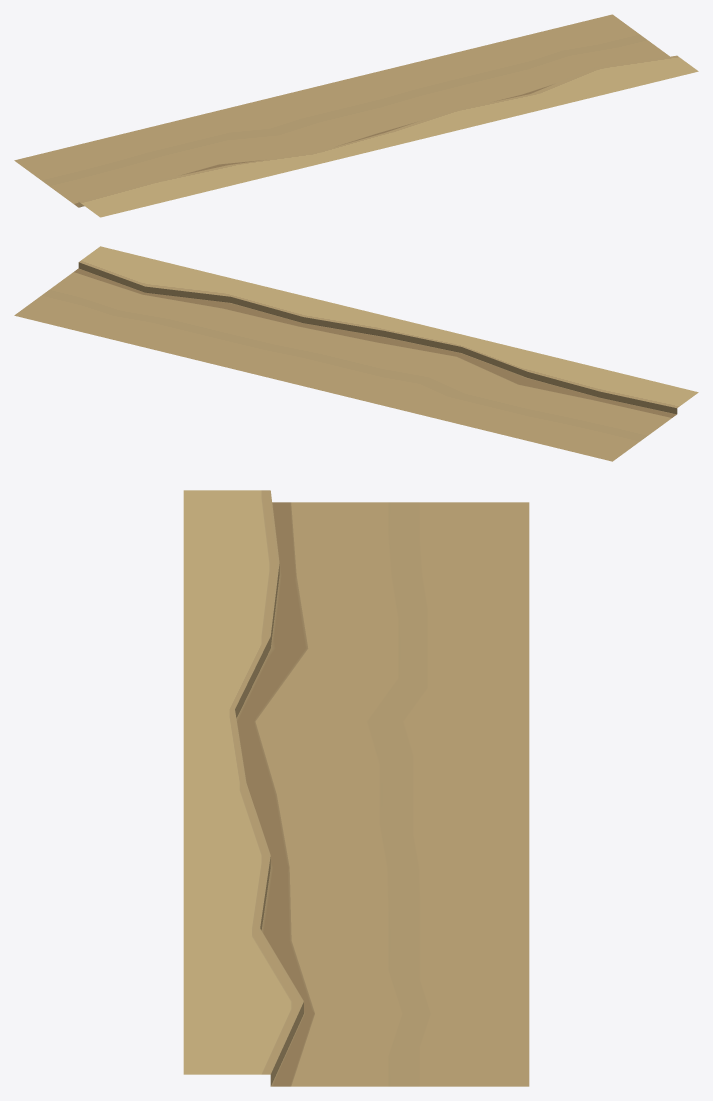
Rendered from SM_Env_Road_Dirt_Long_01.fbx.
3 renders of one model, top to bottom at view 1: azimuth 30°, elevation 25°; view 2: azimuth 150°, elevation 25°; view 3: azimuth 270°, elevation 25°, orthographic. The views are drawn at different scales.
Visible parts, largest first — view 1: SM_Env_Road_Dirt_Long_01; view 2: SM_Env_Road_Dirt_Long_01; view 3: SM_Env_Road_Dirt_Long_01.
Boxes of the visible parts, x1,y1,x2,y2 form: SM_Env_Road_Dirt_Long_01: [14, 14, 698, 217]; SM_Env_Road_Dirt_Long_01: [14, 246, 698, 461]; SM_Env_Road_Dirt_Long_01: [183, 490, 529, 1086].
Size of the model in its own units: 20 by 0.1948 by 5.
